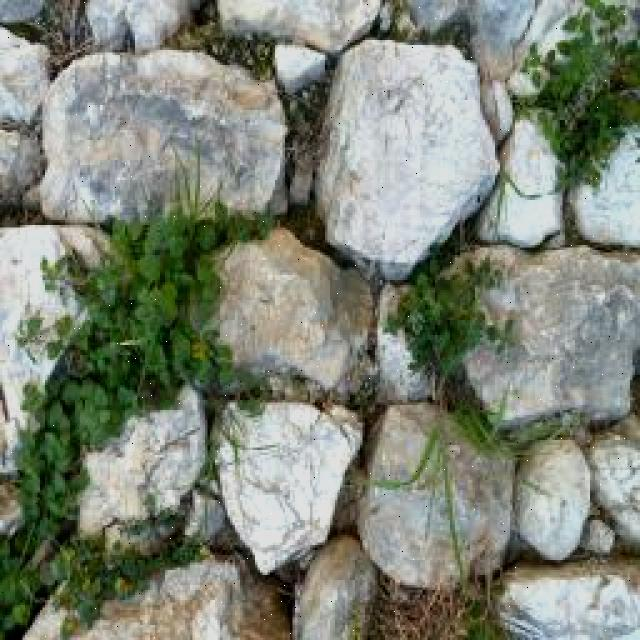vegetation: (1, 139, 283, 637), (388, 216, 519, 462), (515, 4, 639, 192), (1, 223, 111, 397), (408, 1, 570, 103), (473, 109, 568, 250)
